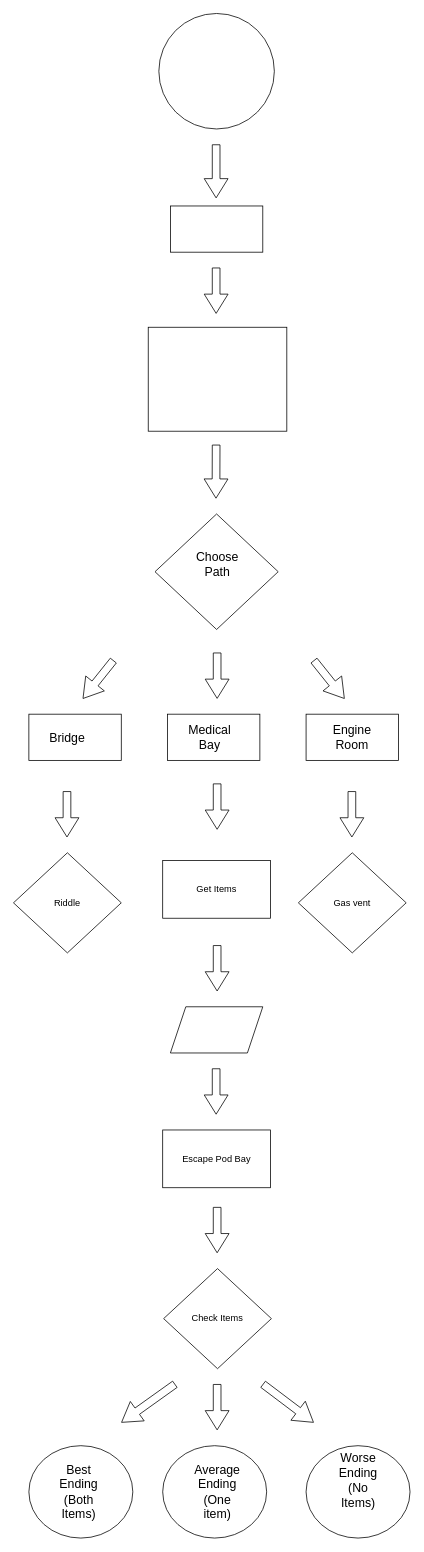
Some shapes in this 424 by 1552 pixel diagram are drawn without their labels. The box of each missing label's shape, as (x1, y1, x2, y2) in pixels:
Character Creation: (170, 205, 263, 252)
Location 1 Hanger Bay: (147, 326, 287, 431)
START GAME: (158, 13, 274, 129)
User Input: (170, 1006, 263, 1053)
